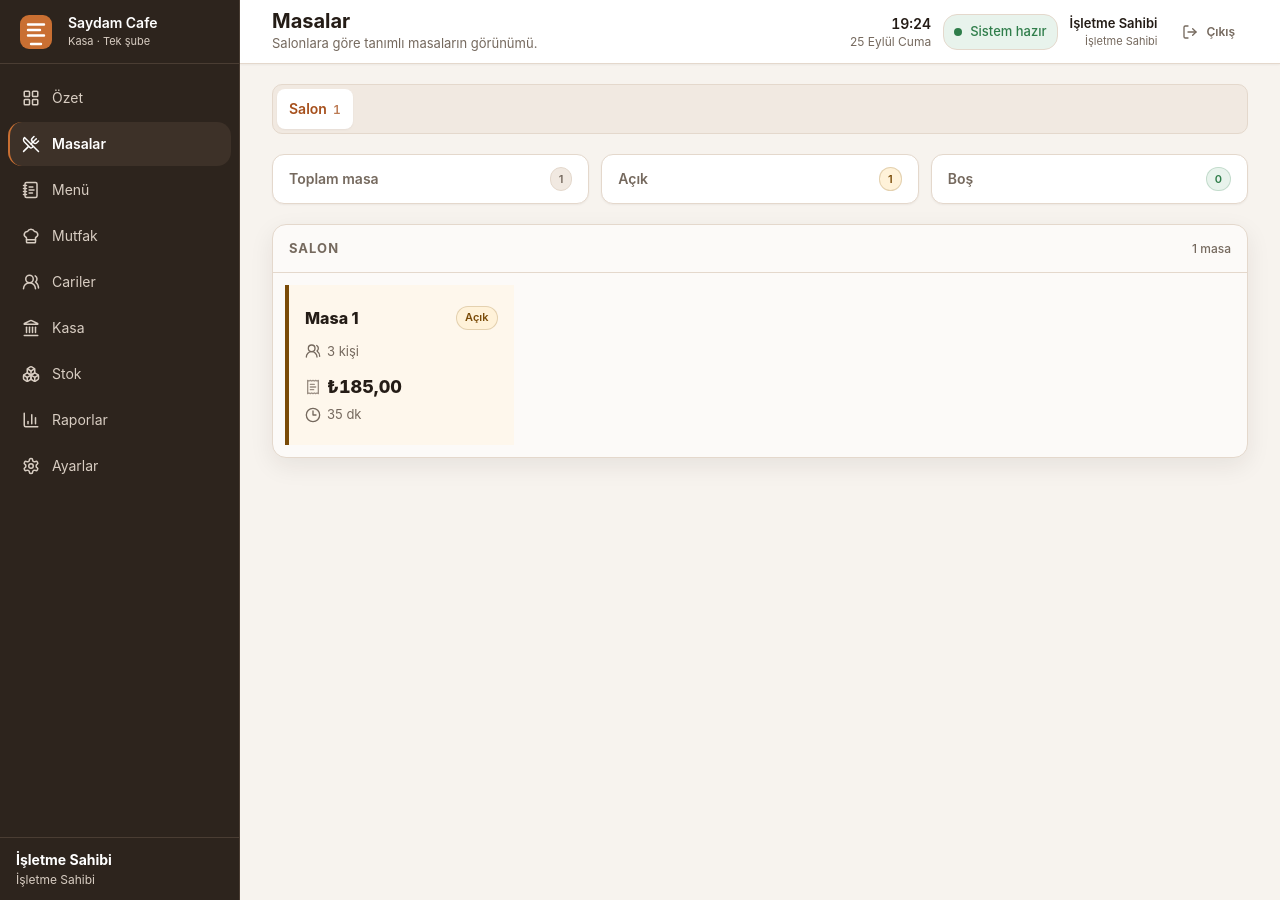
Test case: Masa ve adisyon ekranı › taşınacak boş masa ve birleşecek adisyon yokken boş liste yerine açıklama gösterir
Click the button "Masa 1 Açık 3 kişi ₺185,00 35 dk" at (399, 365), box [285,285,514,445]
(page scrolled)
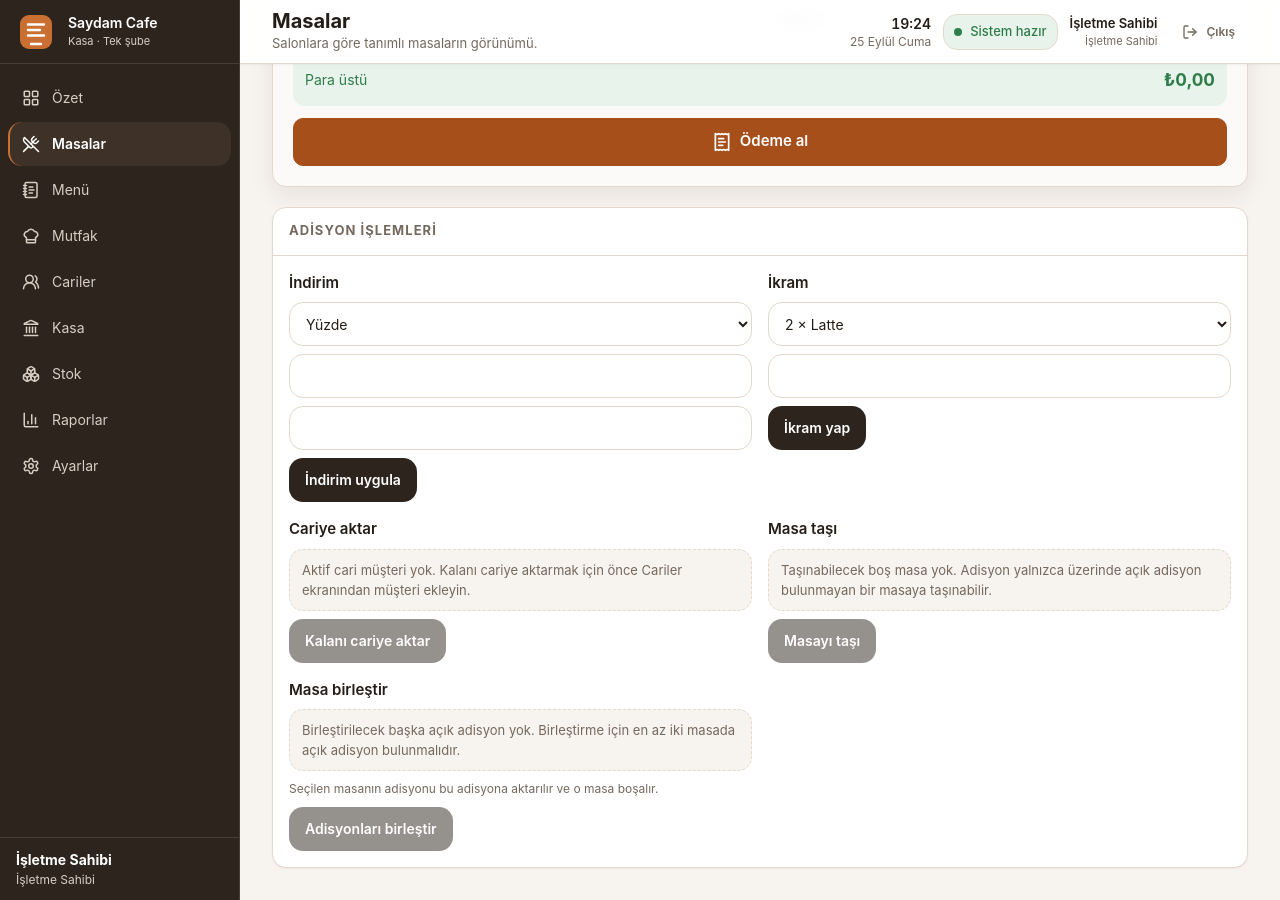
Check: the text "Birleştirilecek başka açık adisyon yok" is shown, box [302,722,735,758]
Check: the button "Adisyonları birleştir" is disabled, box [289,807,453,851]
Check: the text "Taşınabilecek boş masa yok" is shown, box [781,562,1201,598]
